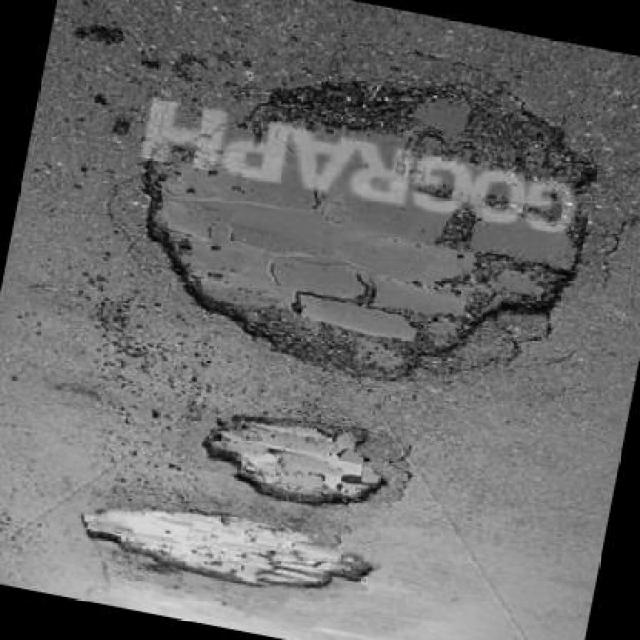pothole: (106, 28, 625, 429), (72, 497, 383, 612), (190, 400, 399, 525)
